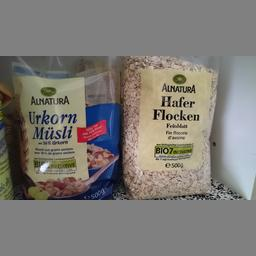cereal: (120, 56, 221, 199), (16, 63, 119, 198)
